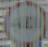Heavy Vehicles: (3, 4, 47, 44)
